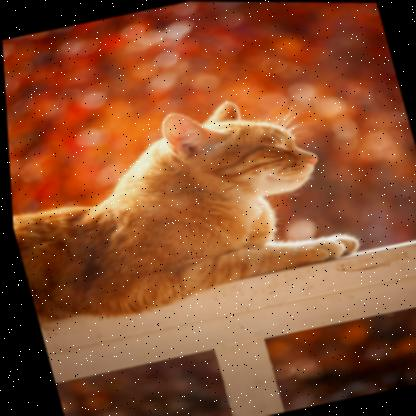cat: (5, 77, 372, 335)
